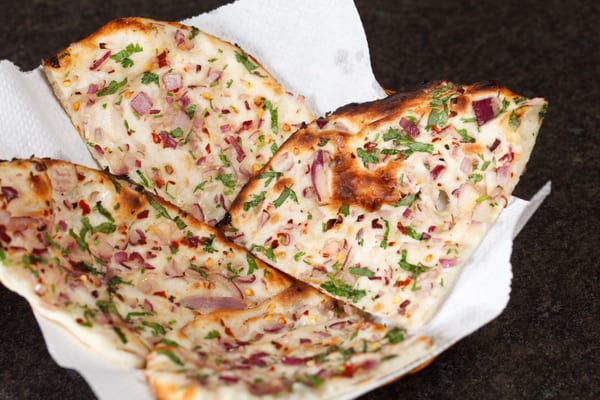sandwich: (0, 13, 563, 392), (0, 152, 447, 394), (225, 79, 548, 330), (39, 16, 320, 229)
